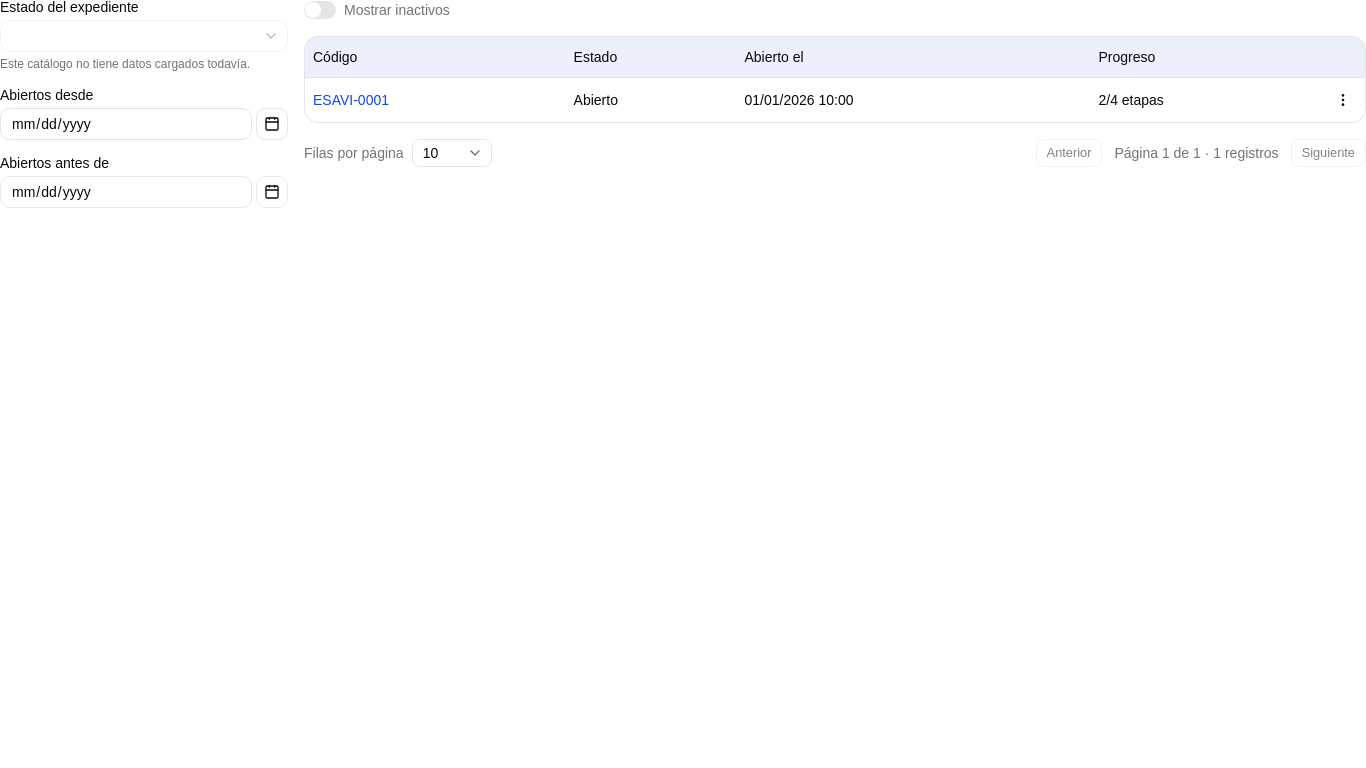
Test: CaseWorkflowInbox — menú de fila del registro › el diálogo avisa de la consecuencia completa y confirmar lanza un único DELETE
Click the button named "Acciones del registro" at (1343, 100), box [1329,86,1357,114]
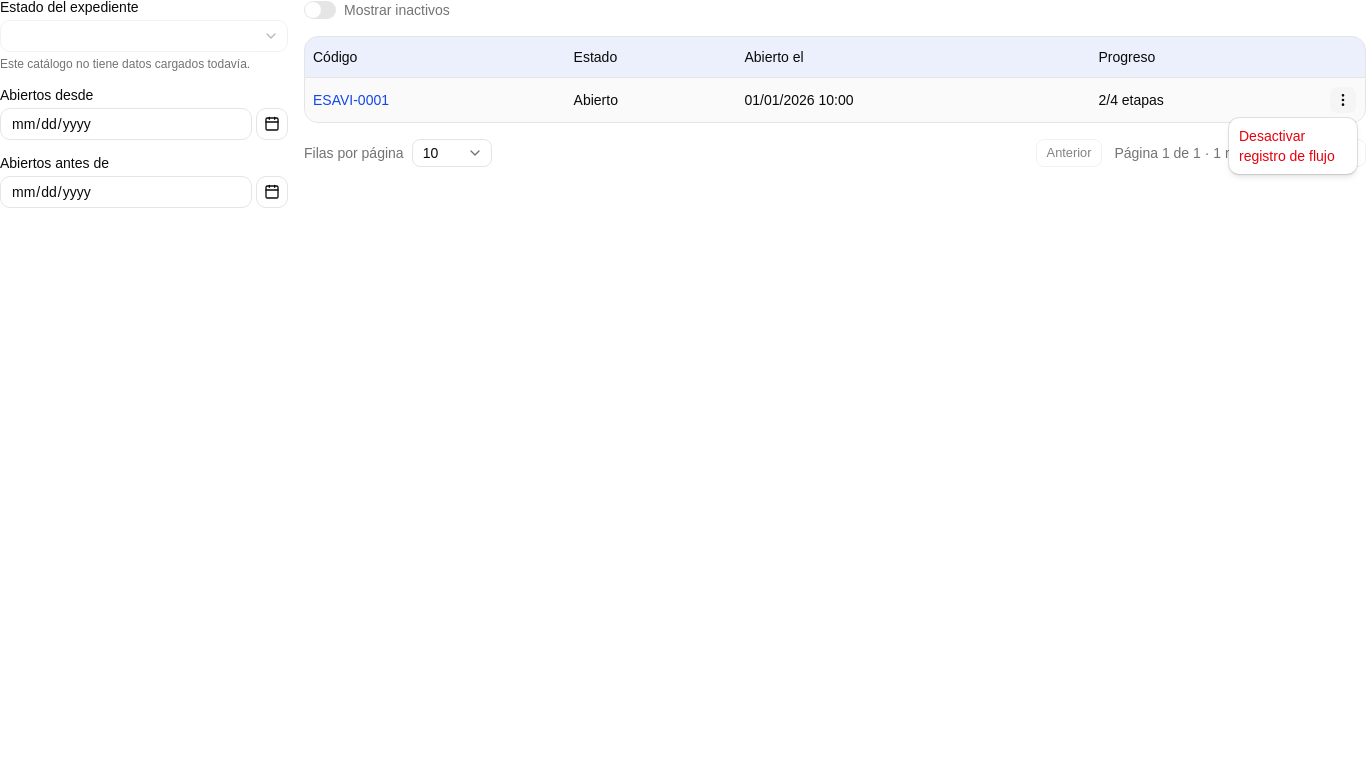
Click the menu item "Desactivar registro de flujo" at (1287, 146), box [1239,128,1335,164]
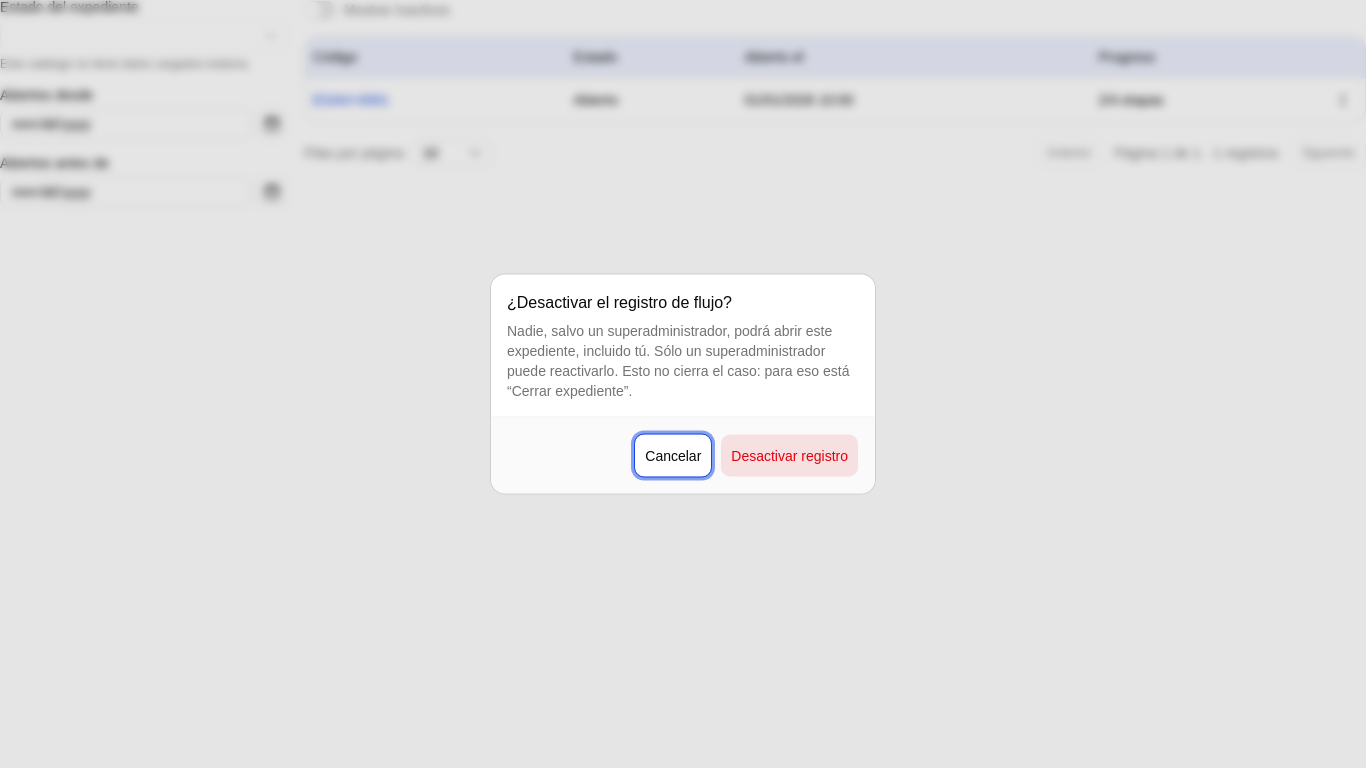
Expected: the dialog "¿Desactivar el registro de flujo?" shows "Nadie, salvo un superadministrador, podrá abrir este expediente, incluido tú. Sólo un superadministrador puede reactivarlo. Esto no cierra el caso: para eso est", [507,322,849,398]
Click the button "Desactivar registro" at (790, 456), box [720,434,859,478]
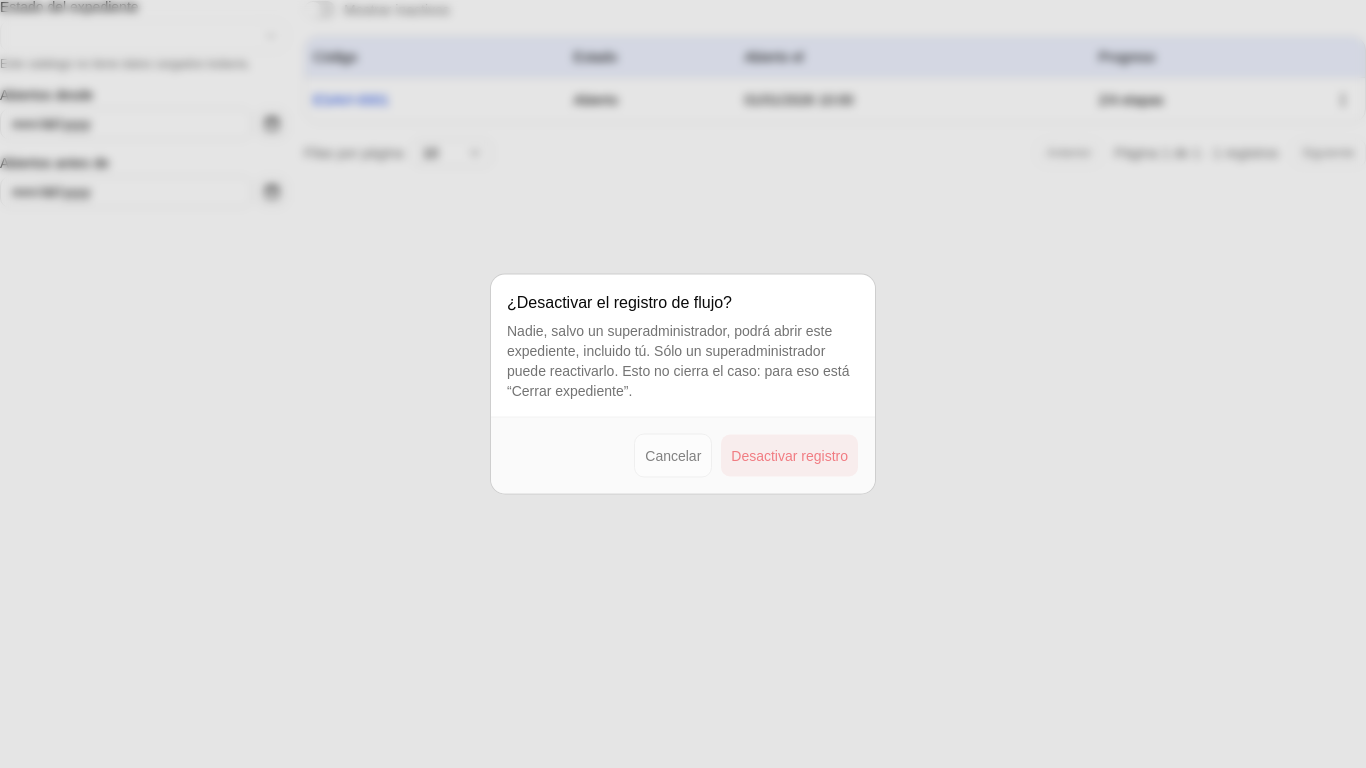
Expected: the button "Desactivar registro" is disabled
Click the button "Desactivar registro" at (790, 456), box [720,434,859,478]
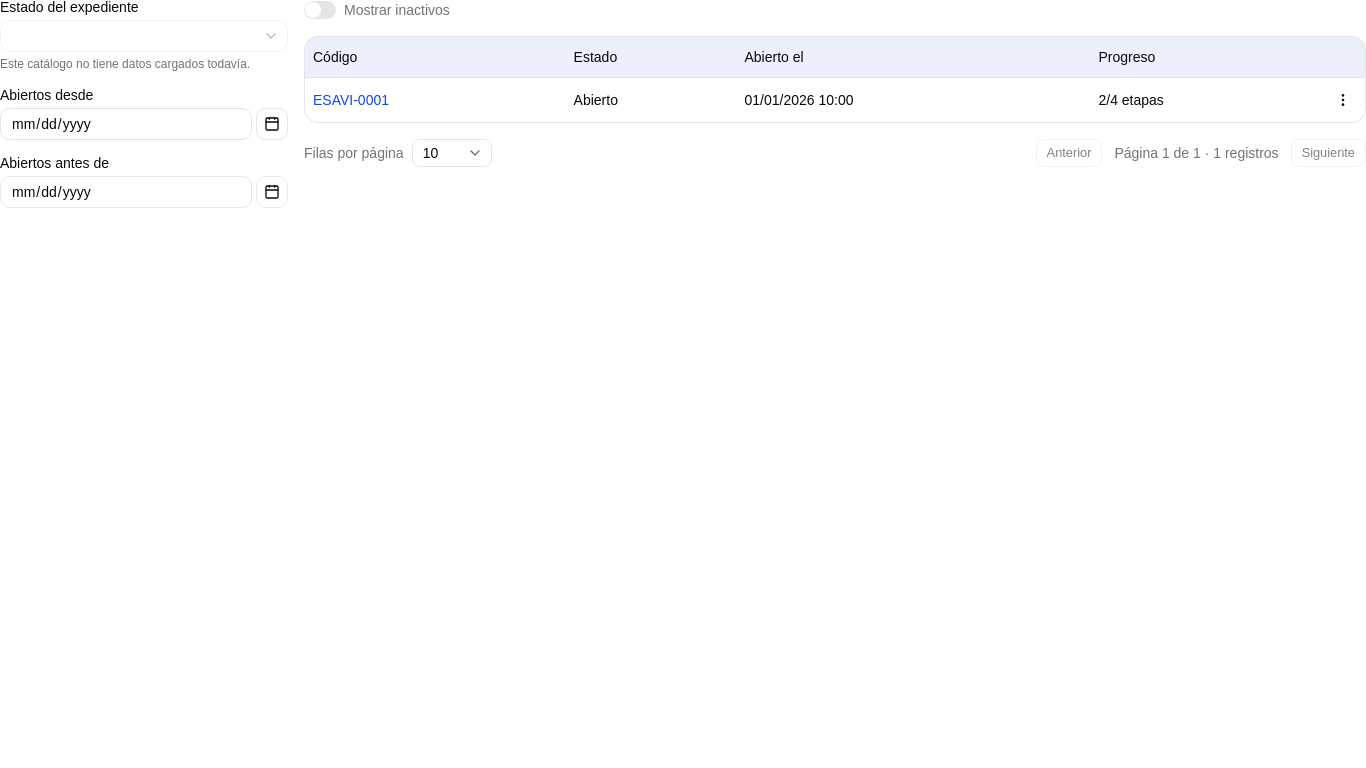
Expected: the dialog is gone
